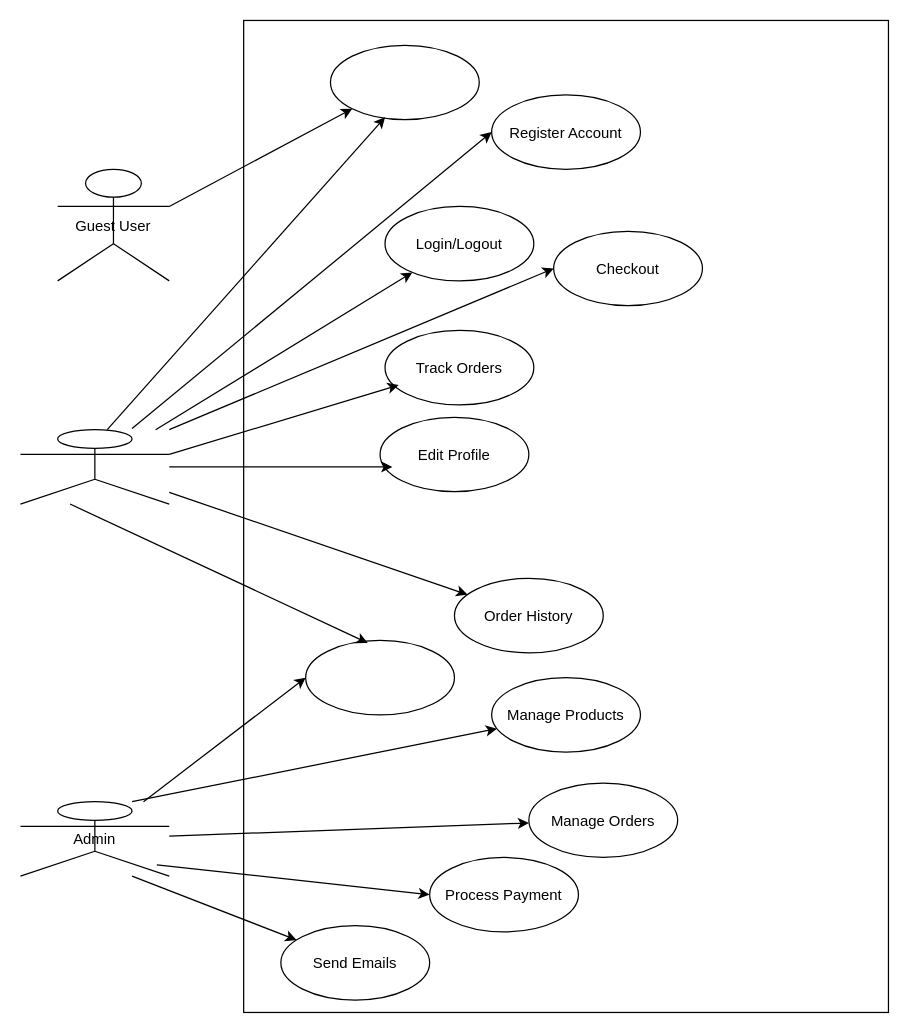
The diagram is 909 pixels wide and 1033 high, and some of its shapes have lost their labels. The centre of each missing label's shape, as x and y in pixels:
"Browse Products" belongs at (404,82).
"Registered User" belongs at (94,466).
"Reset Password" belongs at (379,677).
